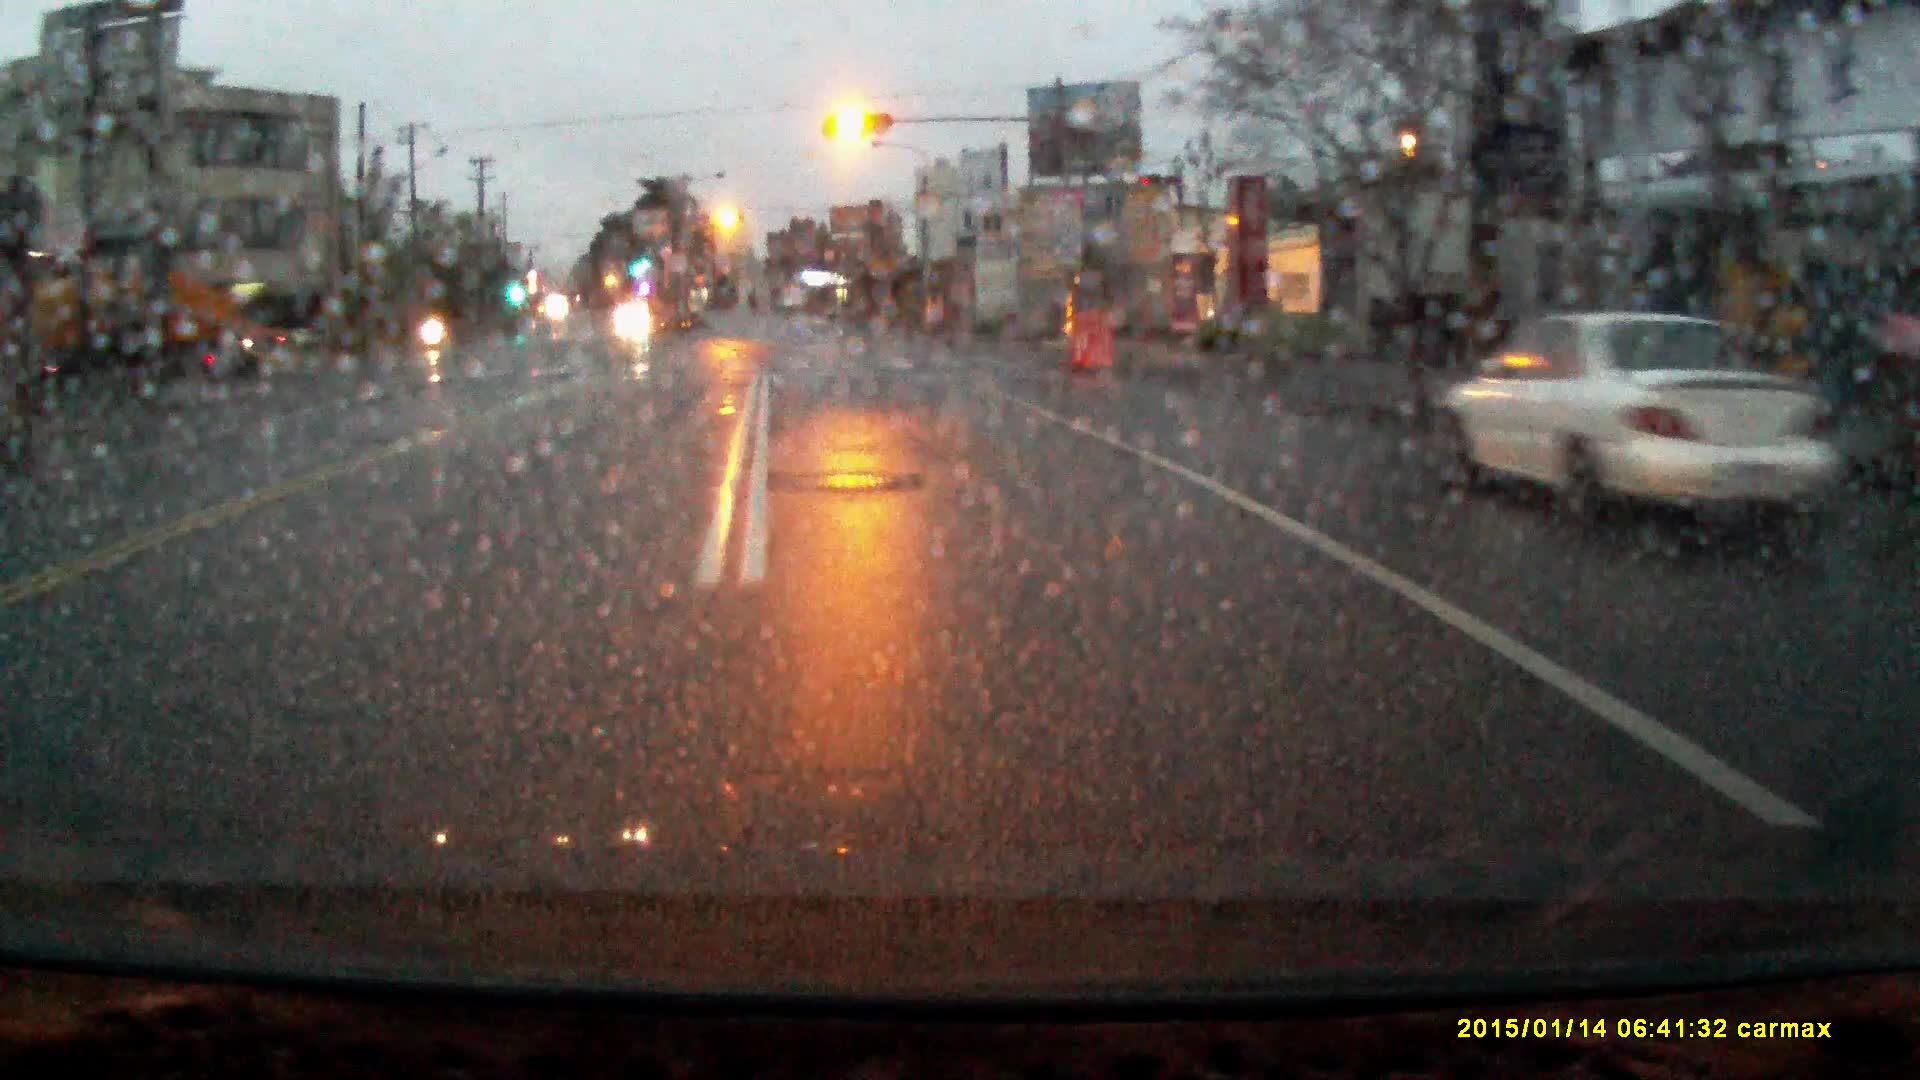rider: (420, 292, 451, 355)
vehicle: (1430, 310, 1851, 537), (3, 258, 248, 384), (615, 299, 653, 331)
